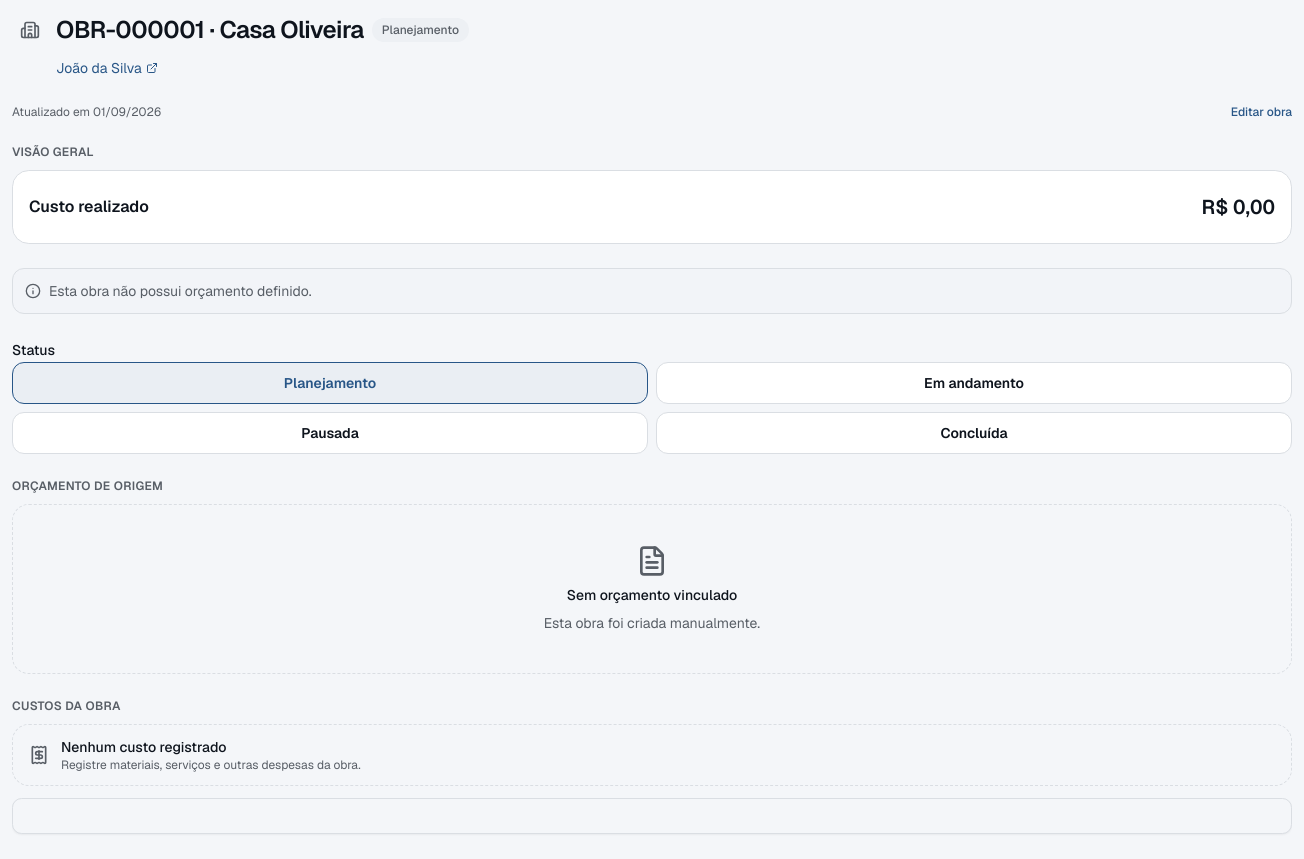
Test: ProjectDetail › PD11: a 409 on status change refetches the Project and shows a notice, never overwrites with stale data
The width and height of the screenshot is (1304, 859).
Check: the heading "OBR-000001 · Casa Oliveira" is shown, box [56,14,364,46]
What coordinates should you click on to do the following:
click the button "Concluída"
I would click on:
 (974, 433)
Its box is [656,412,1292,454].
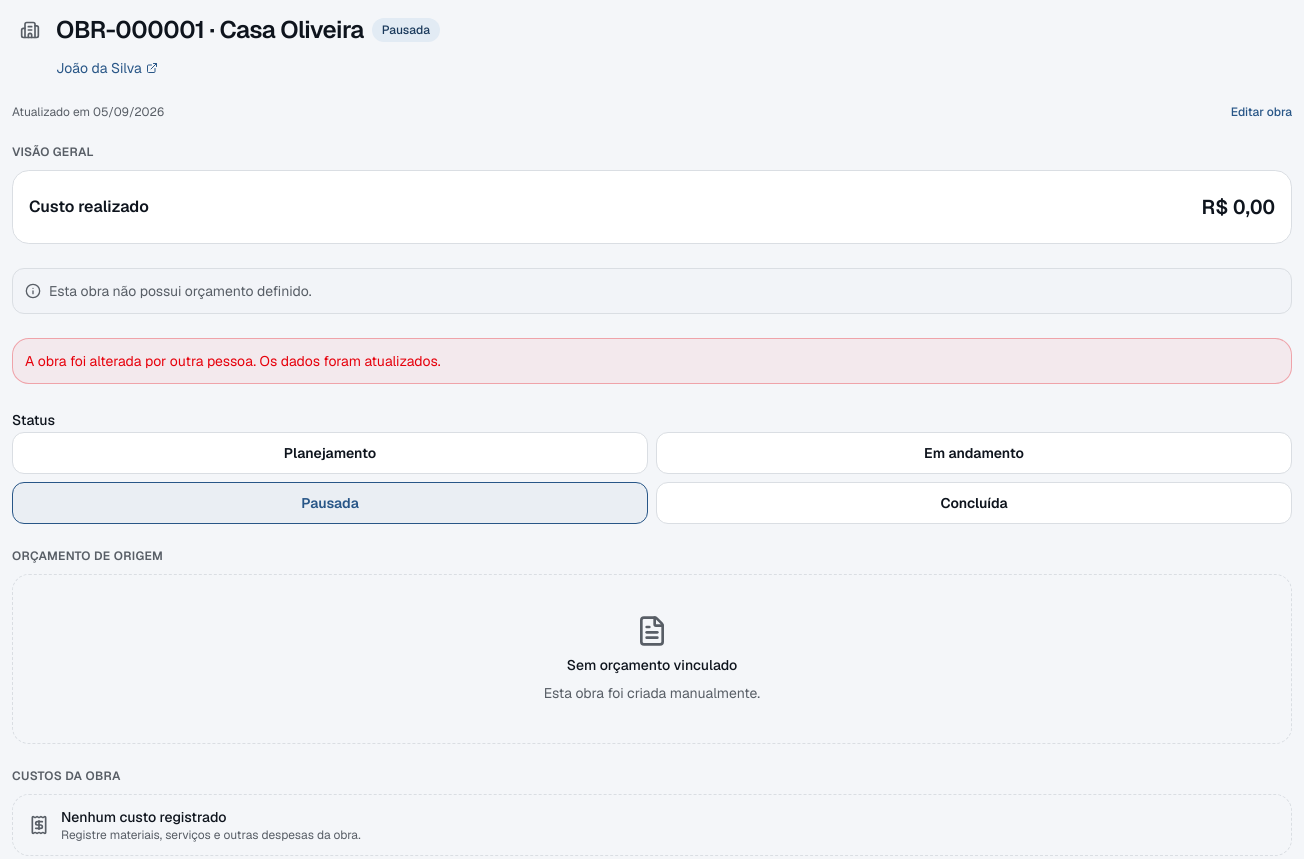
Check: the text "A obra foi alterada por outra pessoa. Os dados foram atualizados." is shown, box [12,338,1292,384]
